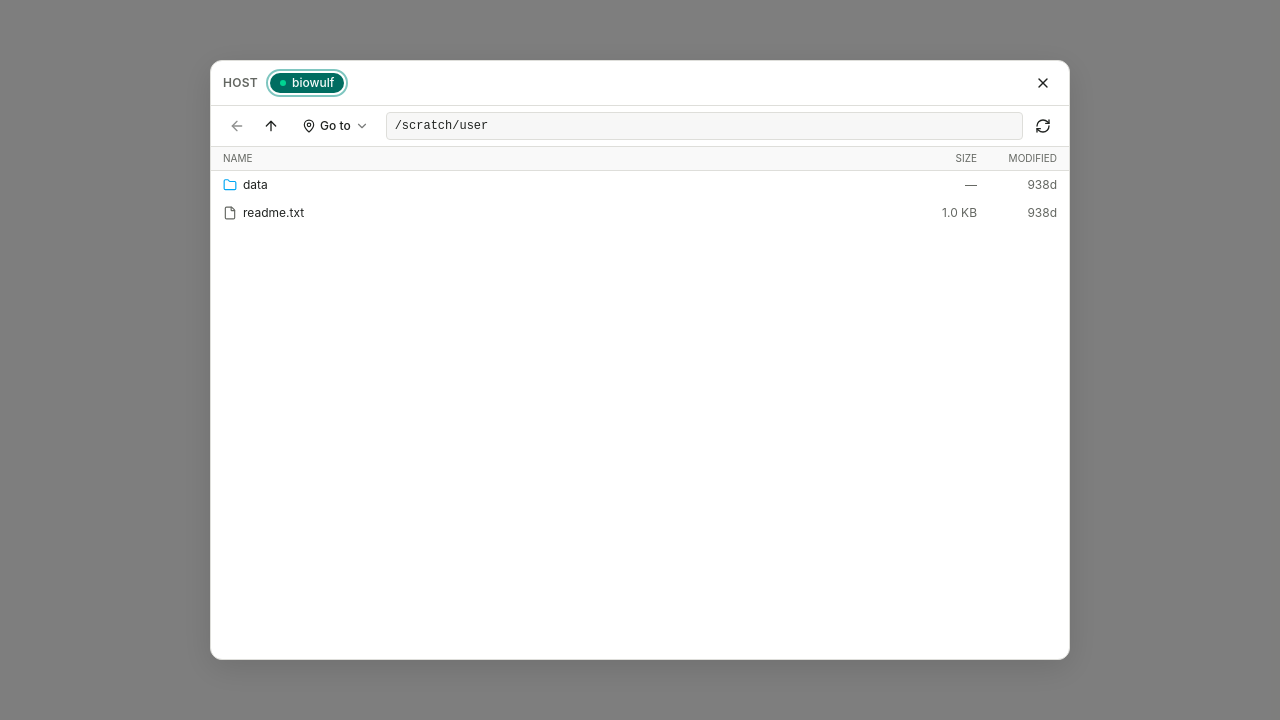
Scenario: FileBrowserModal › shows Add to project button when a project is active
The image size is (1280, 720).
What coordinates should you click on to do the following:
click the option "readme.txt 1.0 KB 938d"
I would click on:
 (274, 212)
Its box is [211,199,1069,227].
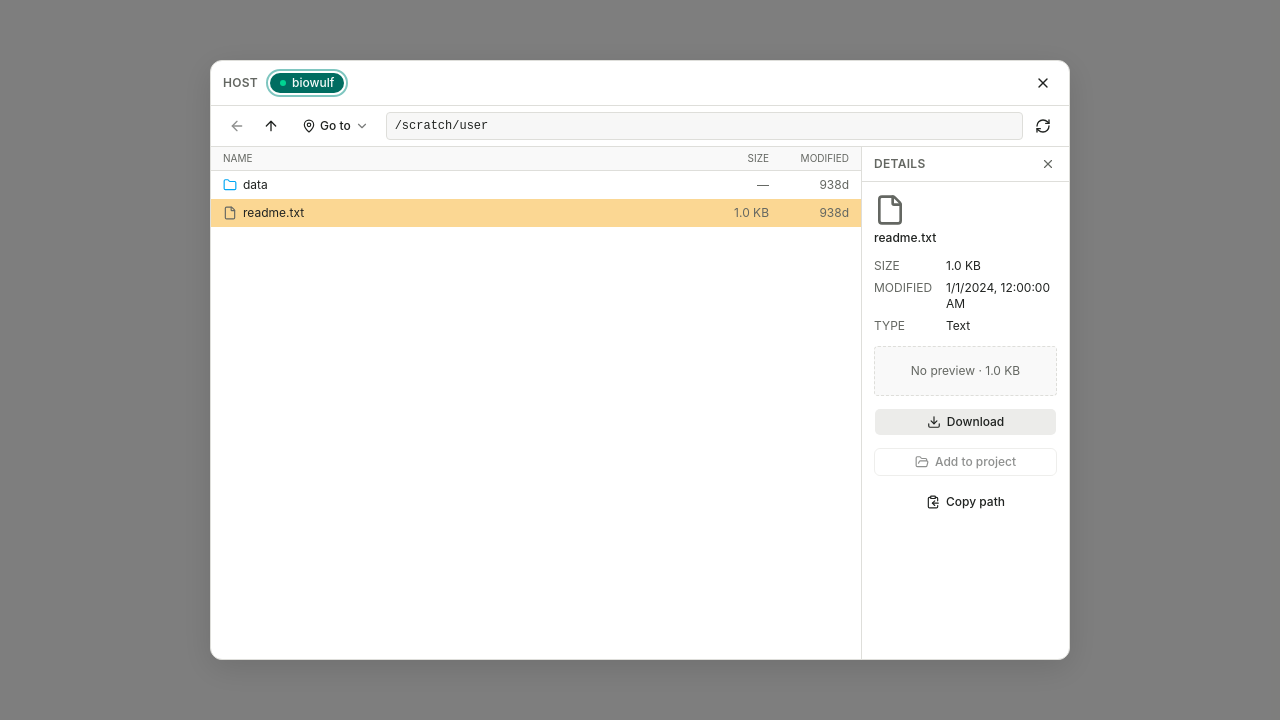
Check: the text "Add to project" is shown, box [874,448,1057,476]
Check: the button "Add to project" is disabled, box [874,448,1057,476]
